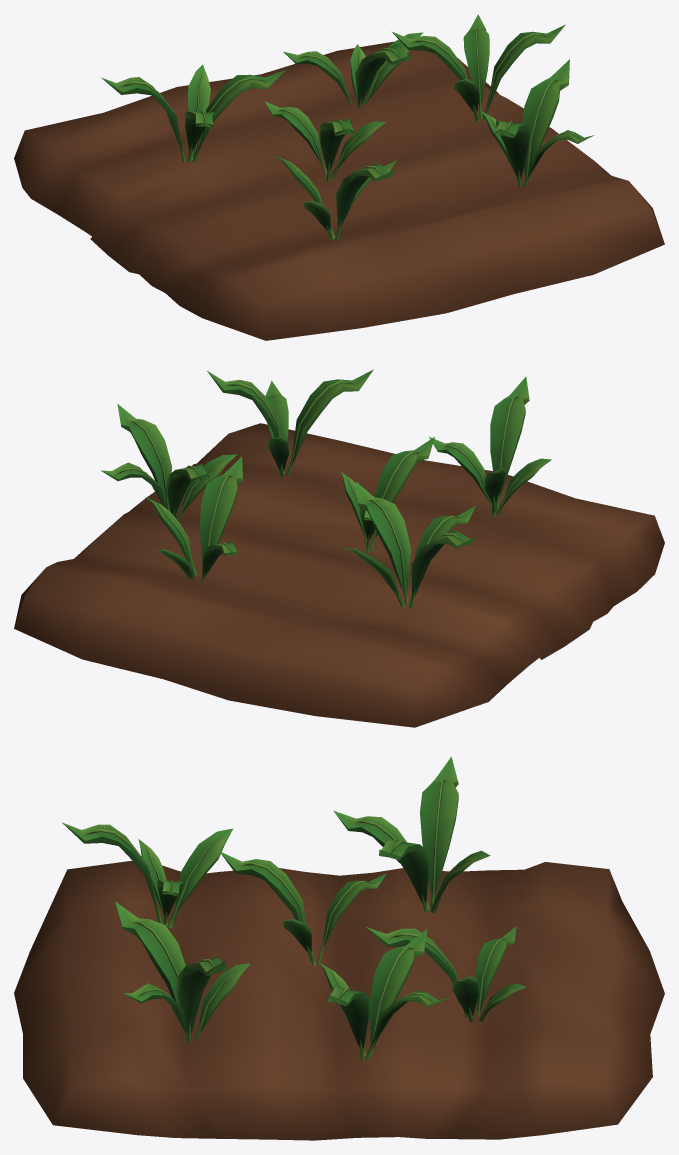
File: SM_PlantSoil_Turnip_Lv2.fbx
3 renders of one model, top to bottom at view 1: azimuth 30°, elevation 25°; view 2: azimuth 150°, elevation 25°; view 3: azimuth 270°, elevation 25°, orthographic. The views are drawn at different scales.
Parts seen in each view (by area): view 1: SM_PlantSoil_Turnip_Lv2; view 2: SM_PlantSoil_Turnip_Lv2; view 3: SM_PlantSoil_Turnip_Lv2.
Part boxes in pixels (x1,y1,x2,y2): SM_PlantSoil_Turnip_Lv2: (14,14,664,340); SM_PlantSoil_Turnip_Lv2: (14,369,664,727); SM_PlantSoil_Turnip_Lv2: (14,756,664,1140).
Bounding box in the file's own units: 96.14 × 27.44 × 103.
